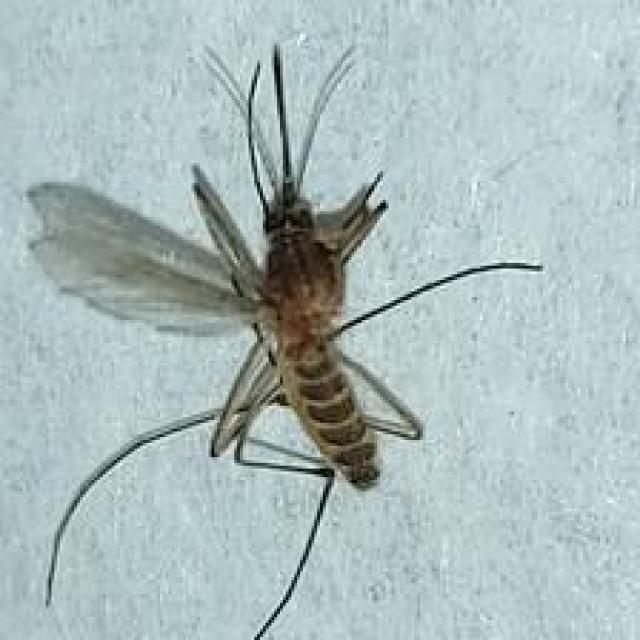Culex: (24, 37, 544, 640)
